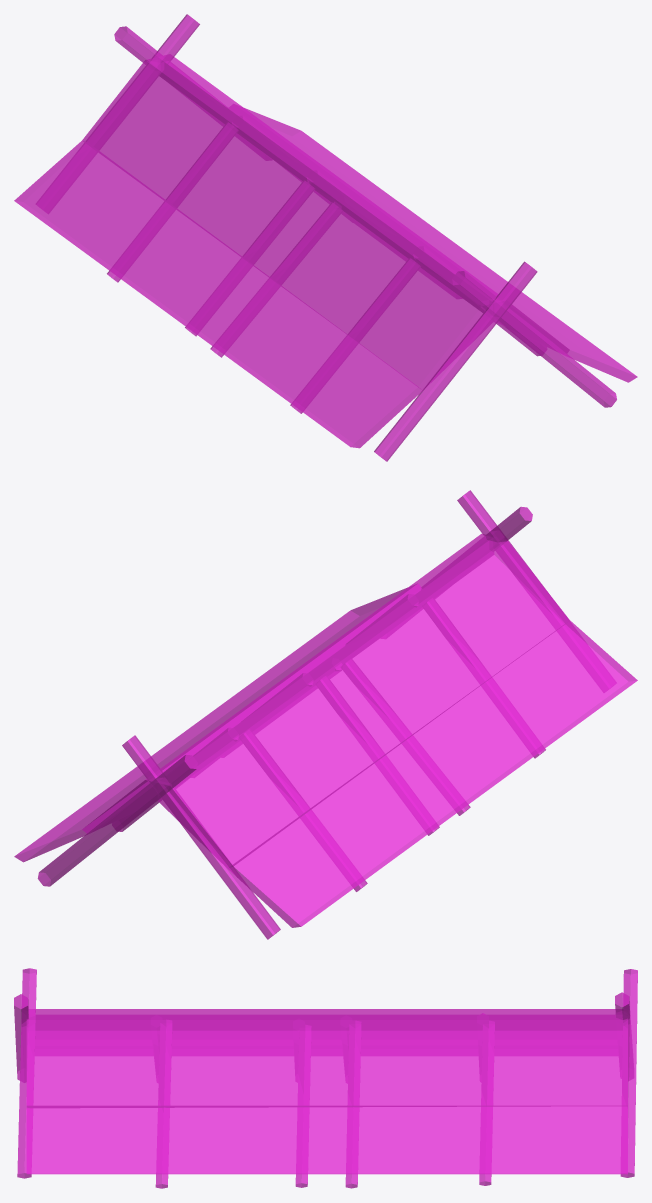
The model's file is SM_Veh_Boat_Medium_01_Tent_Structure_01_Collision.fbx.
3 renders of one model, top to bottom at view 1: azimuth 30°, elevation 25°; view 2: azimuth 150°, elevation 25°; view 3: azimuth 270°, elevation 25°, orthographic. The views are drawn at different scales.
Parts seen in each view (by area): view 1: SM_Veh_Boat_Medium_01_Tent_Structure_01_Collision; view 2: SM_Veh_Boat_Medium_01_Tent_Structure_01_Collision; view 3: SM_Veh_Boat_Medium_01_Tent_Structure_01_Collision.
Part boxes in pixels (x1,y1,x2,y2): SM_Veh_Boat_Medium_01_Tent_Structure_01_Collision: [14, 14, 637, 461]; SM_Veh_Boat_Medium_01_Tent_Structure_01_Collision: [14, 490, 637, 939]; SM_Veh_Boat_Medium_01_Tent_Structure_01_Collision: [14, 968, 637, 1188].
Bounding box in the file's own units: 431 × 252 × 908.
